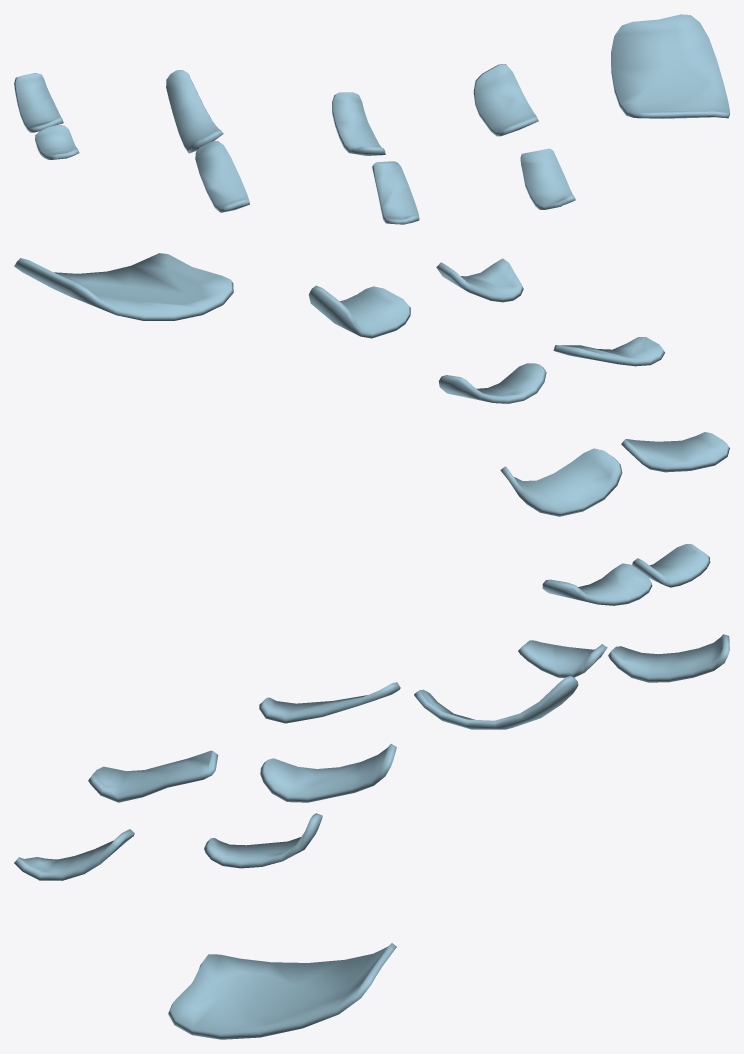
Rendered from articulacoes-plantar-interphalangeal-ligaments-r.glb.
The picture shows the model from 3 angles, top to bottom: view 1: azimuth 30°, elevation 25°; view 2: azimuth 150°, elevation 25°; view 3: azimuth 270°, elevation 25°; orthographic projection. The views are drawn at different scales.
Visible parts, largest first — view 1: Plantar interphalangeal ligaments.r; view 2: Plantar interphalangeal ligaments.r; view 3: Plantar interphalangeal ligaments.r.
Part boxes in pixels (box(x1,y1,x2,y2)): Plantar interphalangeal ligaments.r: box(14, 14, 729, 224); Plantar interphalangeal ligaments.r: box(14, 253, 729, 605); Plantar interphalangeal ligaments.r: box(14, 634, 729, 1039).
Size of the model in its own units: 0.073 by 0.008 by 0.0543.
